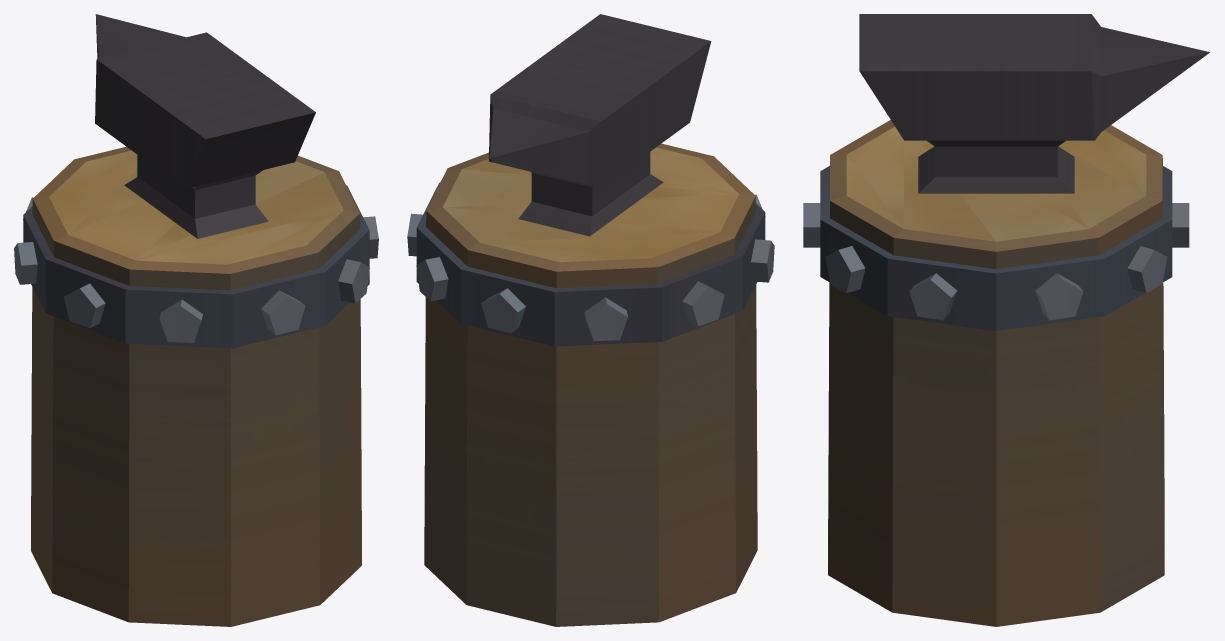
Rendered from Forge_1.fbx.
3 views of the same model, side by side, from view 1: azimuth 30°, elevation 25°; view 2: azimuth 150°, elevation 25°; view 3: azimuth 270°, elevation 25° (orthographic). The views are drawn at different scales.
Visible parts, largest first — view 1: polySurface9719; view 2: polySurface9719; view 3: polySurface9719.
Part boxes in pixels (left/top/right/bottom): polySurface9719: left=14, top=14, right=378, bottom=626; polySurface9719: left=407, top=14, right=774, bottom=626; polySurface9719: left=803, top=14, right=1209, bottom=626.
Bounding box in the file's own units: 76.89 × 114 × 82.8.
